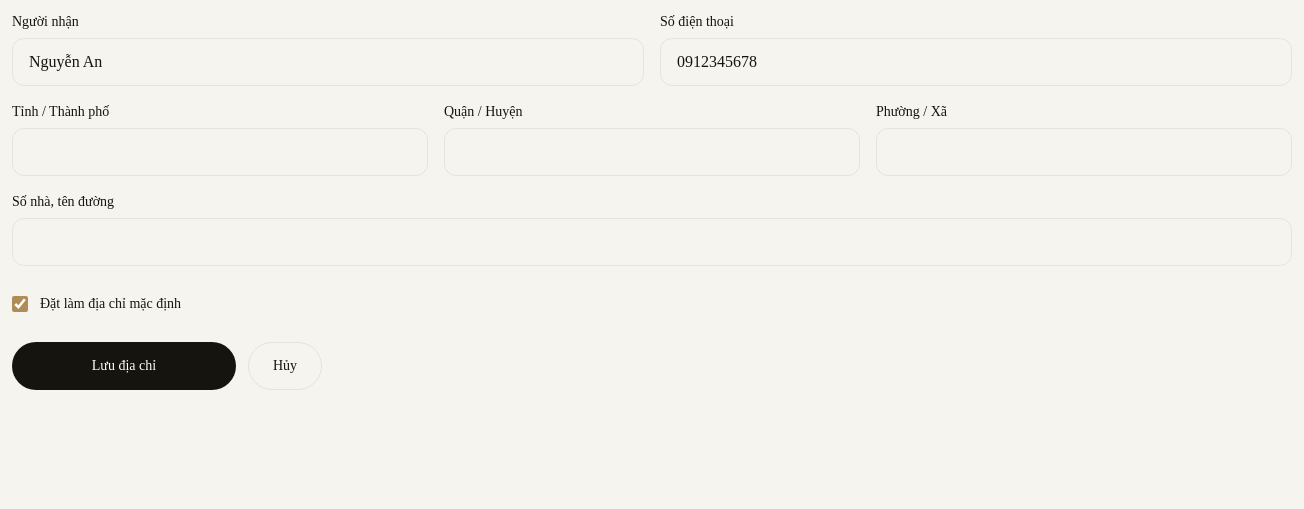
AddressForm › reports that the address limit was reached
Click the button "Lưu địa chỉ": (124,366) [12,342,236,390]
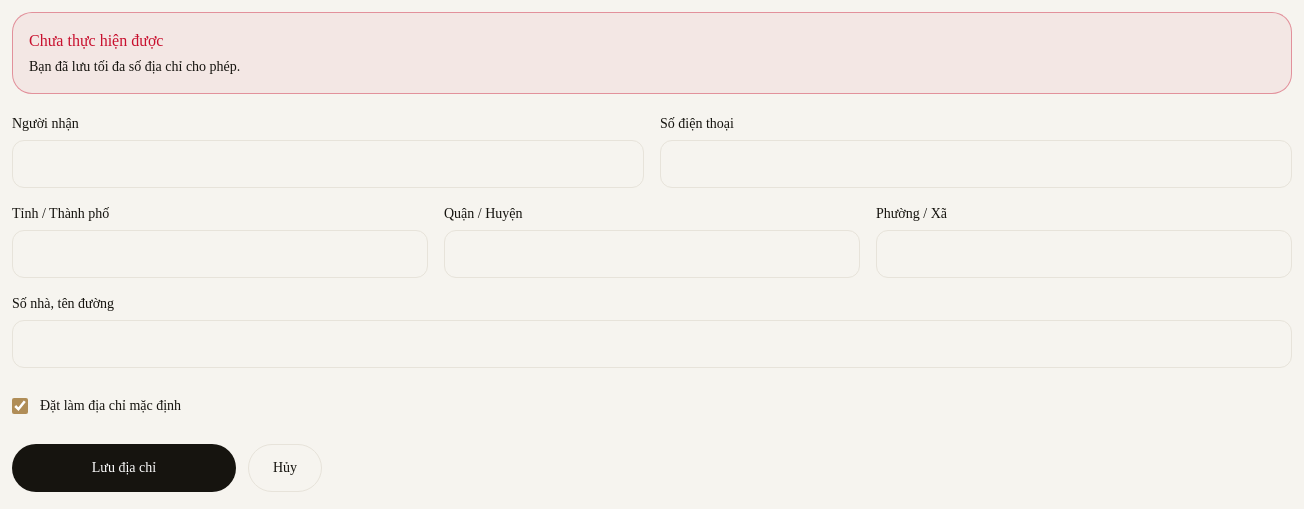
Check: the message shows "Bạn đã lưu tối đa số địa chỉ cho phép.", box [29,59,240,74]
